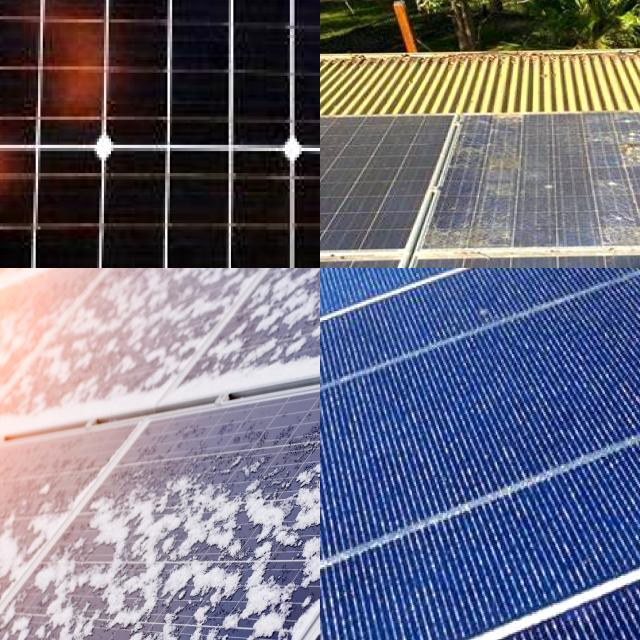bird: (429, 204, 526, 252), (437, 162, 536, 202), (457, 106, 547, 148), (580, 200, 640, 251), (616, 115, 640, 177)
crack: (320, 268, 640, 640)
panel: (0, 268, 93, 441), (91, 268, 190, 407), (72, 467, 194, 571), (209, 268, 311, 385), (208, 462, 302, 570), (0, 322, 43, 454), (0, 530, 49, 639), (35, 578, 118, 640), (0, 502, 73, 570), (215, 581, 286, 640), (130, 586, 204, 640)
shadow: (12, 0, 122, 119), (0, 114, 53, 214)
